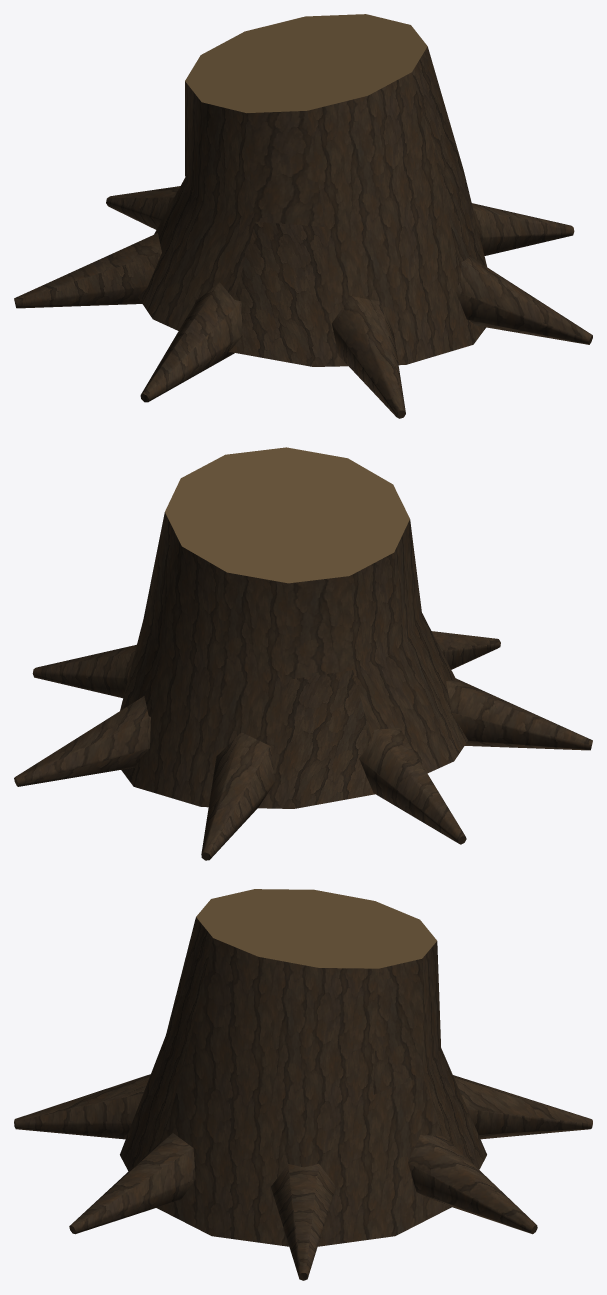
3 renders of one model, top to bottom at view 1: azimuth 30°, elevation 25°; view 2: azimuth 150°, elevation 25°; view 3: azimuth 270°, elevation 25°, orthographic.
Parts seen in each view (by area): view 1: Ancient snapped trunk; view 2: Ancient snapped trunk; view 3: Ancient snapped trunk.
Boxes of the visible parts, <box> form: Ancient snapped trunk: <box>14,14,592,418</box>; Ancient snapped trunk: <box>14,447,592,860</box>; Ancient snapped trunk: <box>14,889,592,1280</box>.
Bounding box in the file's own units: 8.61 × 4.36 × 8.82.
Materials: 2 (1 with a texture image).
